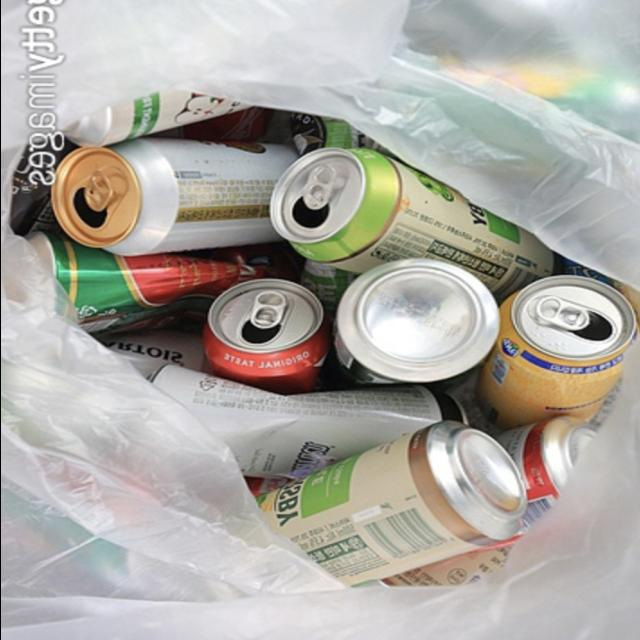can: (262, 143, 556, 306), (41, 142, 308, 256), (476, 278, 630, 452), (182, 267, 324, 381)
